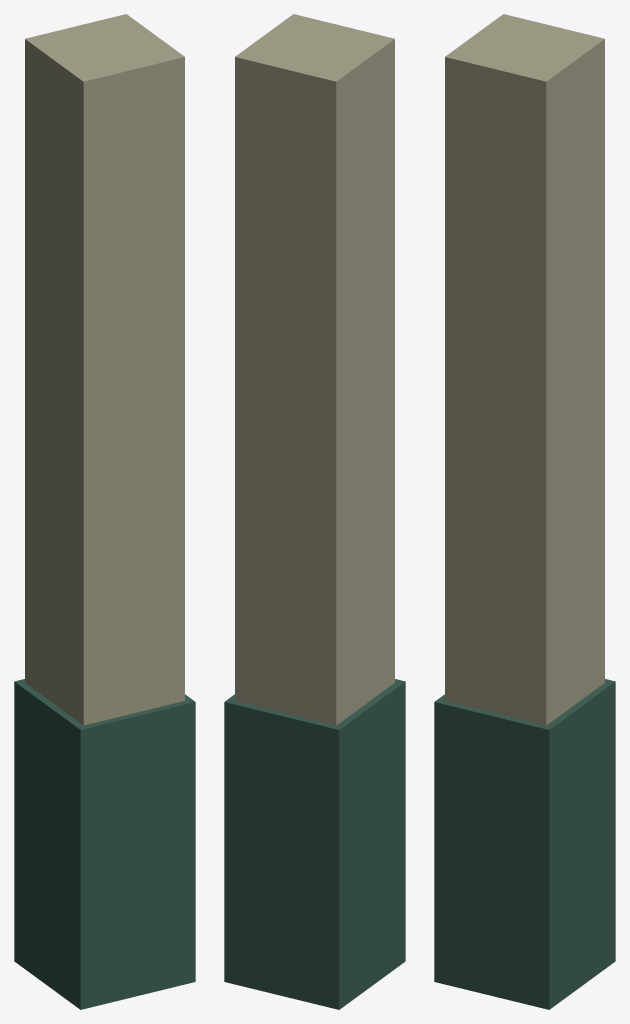
File: concrete_column.glb
The picture shows the model from 3 angles, left to right: view 1: azimuth 30°, elevation 25°; view 2: azimuth 150°, elevation 25°; view 3: azimuth 330°, elevation 25°; orthographic projection.
Parts seen in each view (by area): view 1: concrete_column; view 2: concrete_column; view 3: concrete_column.
Boxes of the visible parts, x1=… form: concrete_column: x1=14, y1=14, x2=195, y2=1009; concrete_column: x1=224, y1=14, x2=405, y2=1009; concrete_column: x1=434, y1=14, x2=615, y2=1009.
Size of the model in its own units: 0.43 by 3.3 by 0.43.
